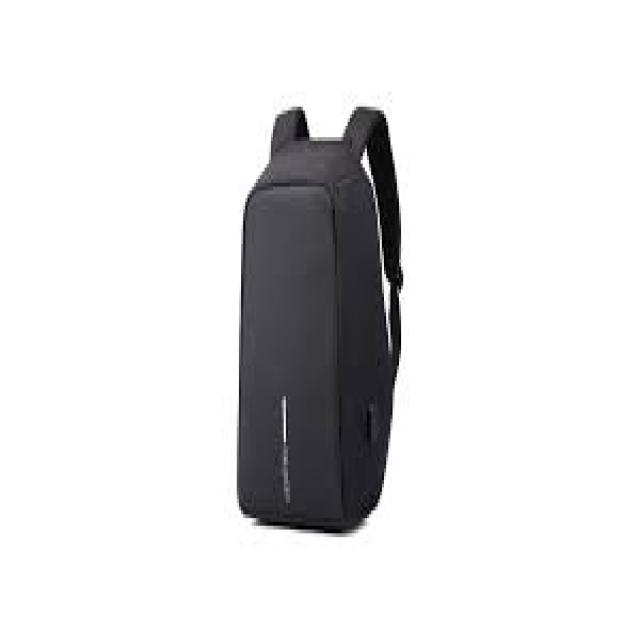backpack: (236, 104, 404, 534)
